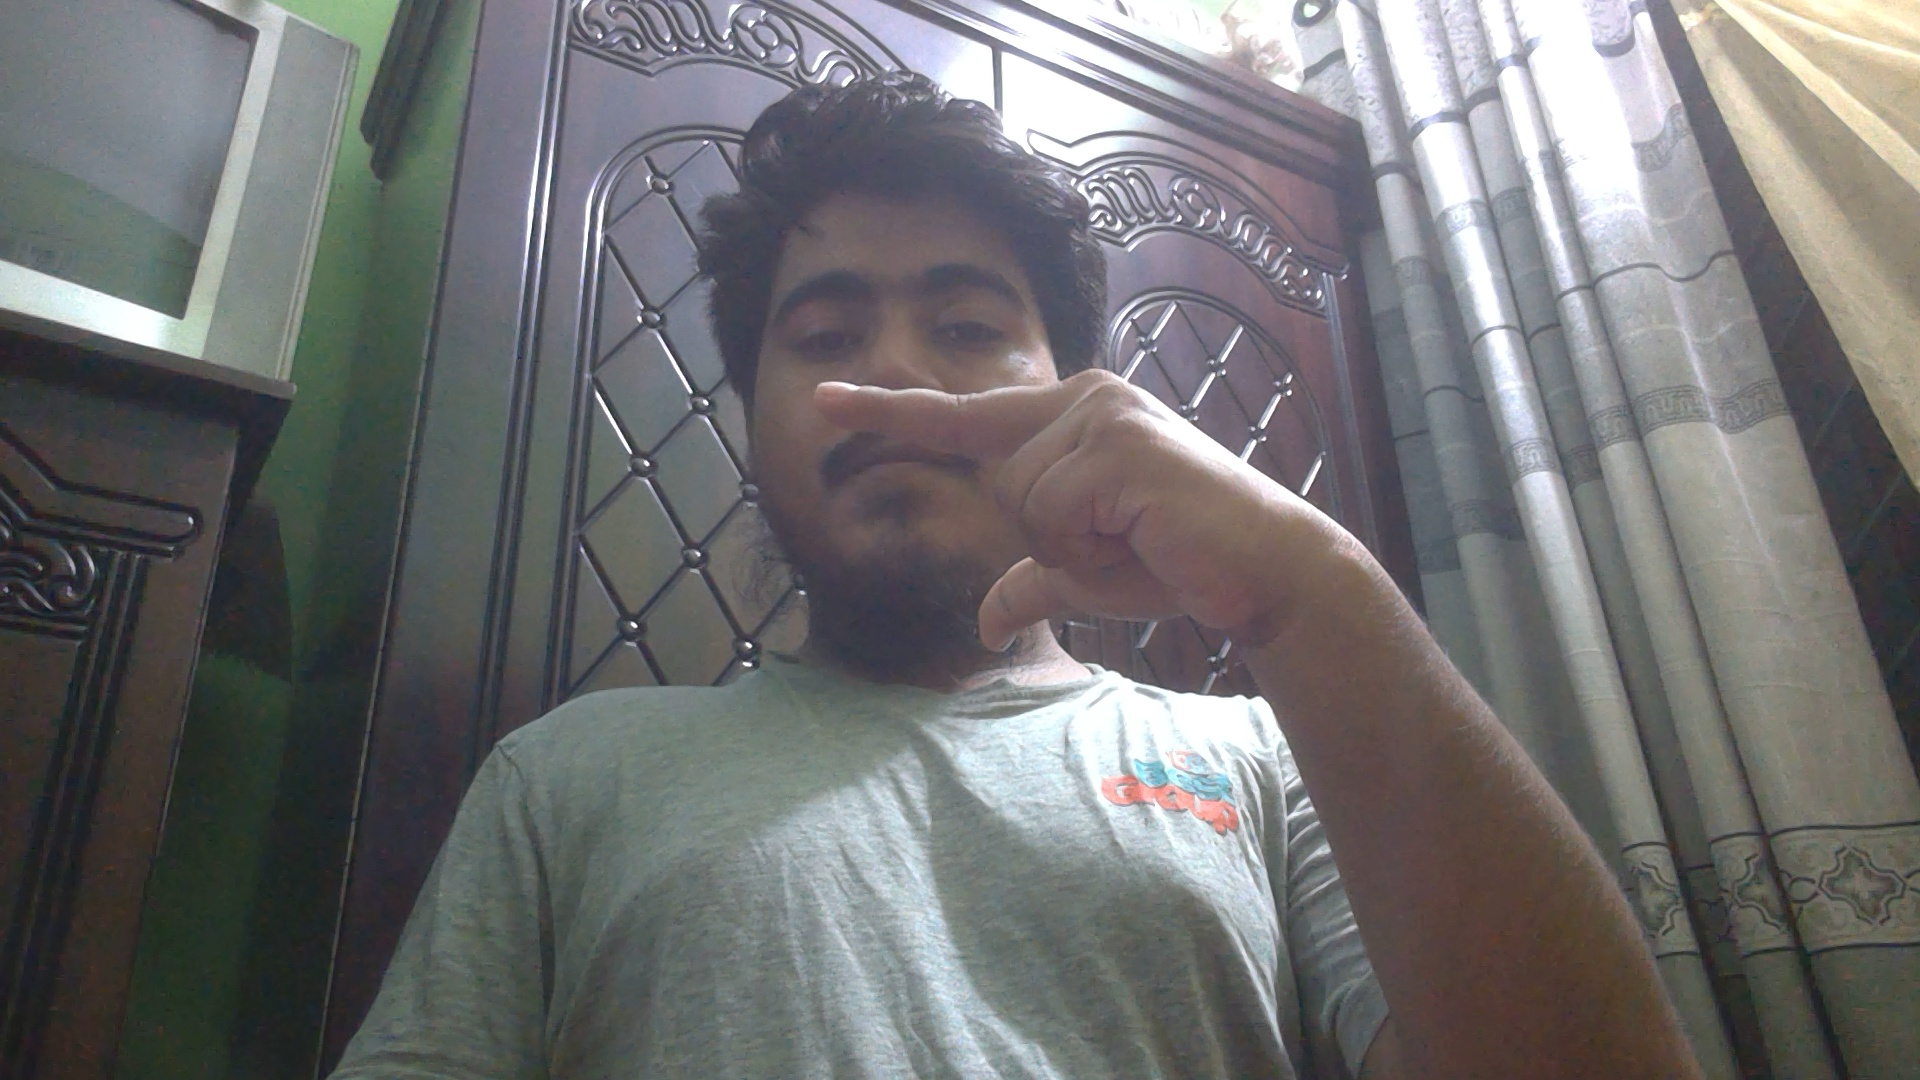No: (804, 367, 1278, 678)
